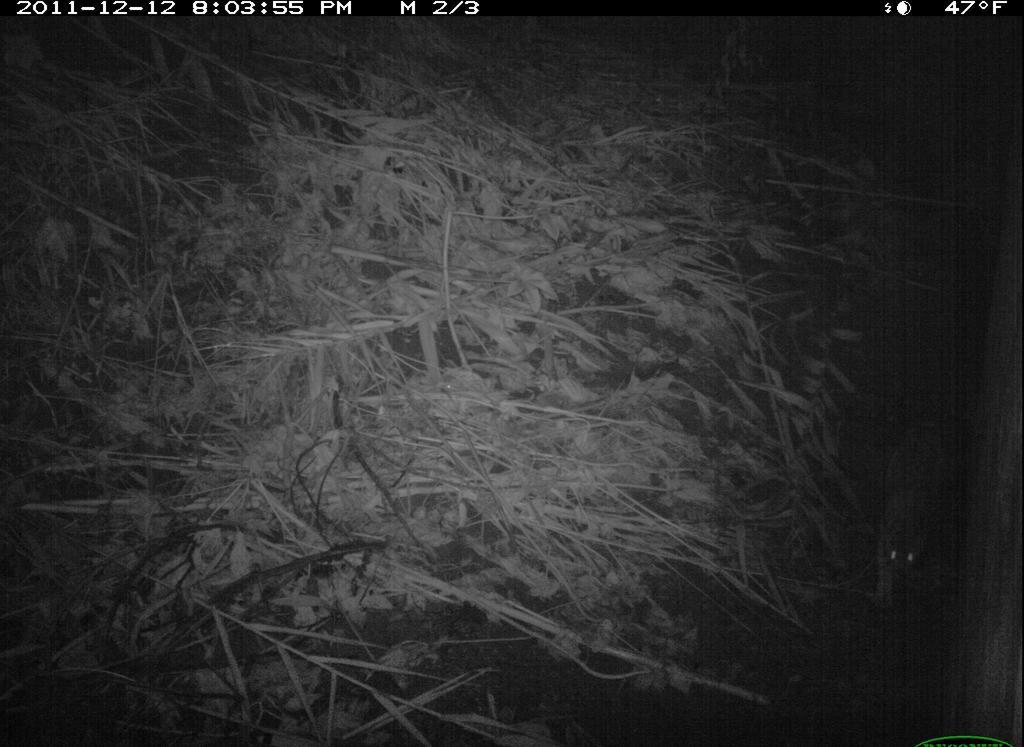bobcat: (863, 410, 966, 623)
